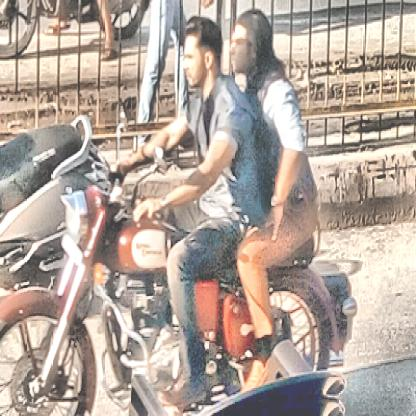not_wear: (182, 22, 218, 90), (232, 11, 269, 77)
